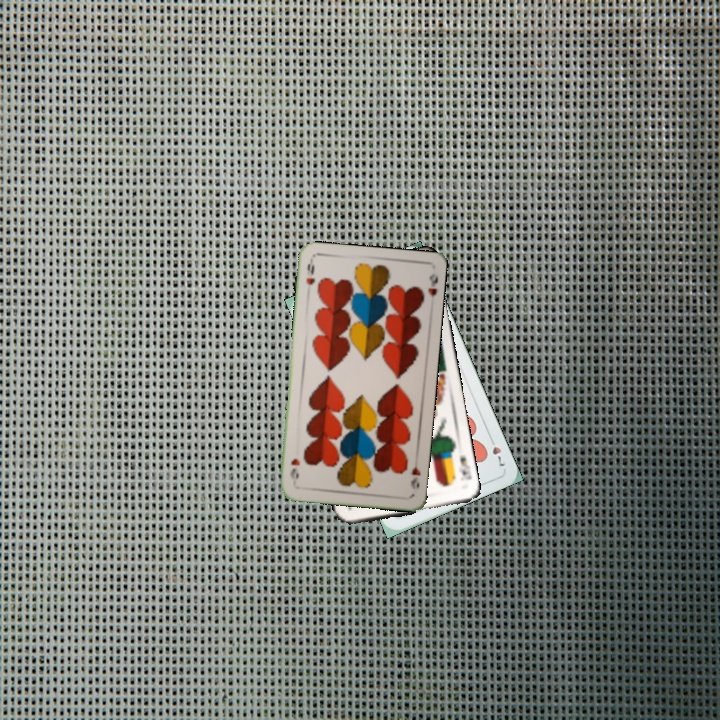EK: (455, 451, 474, 483)
H7: (485, 432, 508, 469)
H9: (407, 454, 423, 491), (302, 256, 317, 287)
